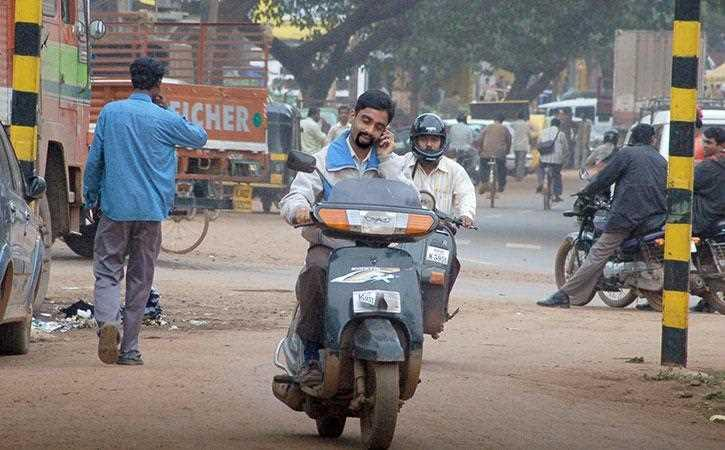Helmet: (413, 114, 449, 158)
